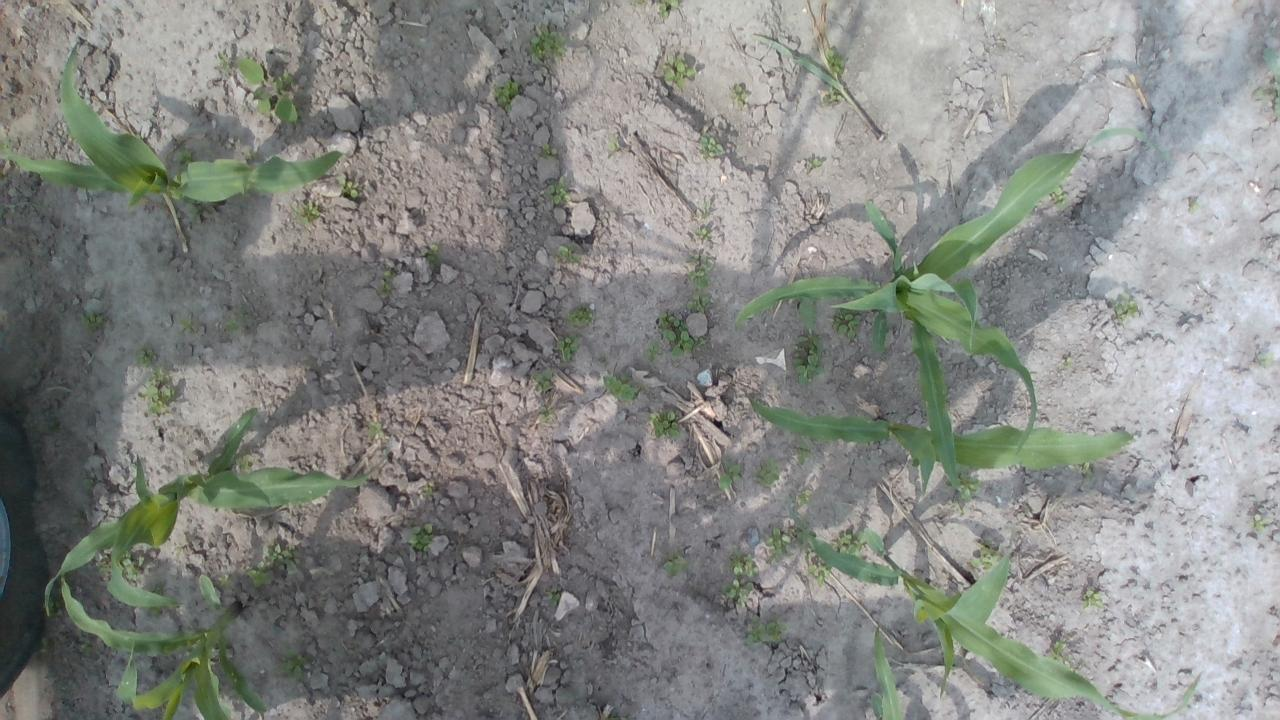Maize: (740, 126, 1154, 494), (783, 496, 1207, 720), (44, 408, 388, 606), (0, 41, 344, 209), (740, 387, 1132, 500), (55, 568, 272, 720), (866, 622, 904, 720)
Weeds: (233, 56, 300, 125), (656, 312, 708, 358), (526, 17, 570, 66), (788, 332, 828, 384), (1251, 47, 1280, 118), (136, 368, 178, 416), (943, 460, 979, 513), (1042, 633, 1080, 674), (742, 612, 784, 648), (826, 308, 866, 345), (767, 525, 805, 562), (658, 54, 696, 91), (646, 406, 682, 444), (1105, 291, 1140, 328), (602, 372, 642, 402), (804, 546, 832, 586), (968, 542, 1004, 573), (278, 647, 311, 680), (720, 578, 754, 610), (714, 458, 744, 492), (685, 253, 714, 288), (262, 544, 302, 569), (834, 528, 866, 557), (182, 195, 214, 224), (492, 78, 519, 112), (289, 200, 321, 228), (728, 547, 758, 576), (661, 548, 688, 580), (1078, 585, 1107, 614), (76, 308, 108, 334), (406, 522, 433, 552), (1046, 181, 1072, 212), (753, 457, 779, 488), (222, 306, 252, 332), (246, 561, 274, 588), (546, 176, 572, 205), (120, 550, 145, 580), (696, 133, 724, 159), (566, 304, 595, 327), (685, 288, 710, 314), (556, 334, 579, 362), (134, 341, 156, 369), (826, 47, 847, 76), (556, 242, 582, 265), (1070, 462, 1096, 484), (336, 175, 359, 198), (48, 584, 65, 615), (232, 446, 252, 472), (793, 439, 812, 464), (658, 0, 681, 20), (533, 370, 554, 391), (729, 84, 749, 106), (1248, 513, 1270, 531), (536, 141, 558, 159), (176, 315, 198, 333), (643, 341, 661, 362), (216, 50, 233, 72), (546, 586, 562, 608), (822, 85, 841, 103), (366, 420, 385, 438), (426, 244, 441, 266), (174, 148, 192, 166), (1254, 352, 1273, 369), (794, 488, 811, 505), (79, 636, 95, 654), (539, 405, 554, 424), (71, 509, 86, 528), (806, 156, 824, 171), (140, 606, 162, 618), (376, 279, 391, 296), (216, 574, 234, 588), (97, 558, 111, 576), (608, 132, 620, 152), (694, 228, 713, 240), (244, 148, 260, 162), (1186, 197, 1200, 212), (700, 200, 711, 219), (150, 580, 164, 594), (82, 477, 95, 491), (1061, 356, 1074, 369), (40, 638, 50, 654), (422, 486, 432, 500), (0, 135, 9, 149), (628, 0, 646, 5), (384, 269, 394, 278), (599, 356, 605, 362)
